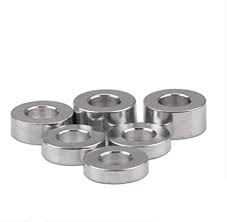No thread: (145, 89, 198, 112), (79, 92, 128, 113), (114, 124, 165, 144), (95, 147, 137, 169), (23, 103, 63, 123), (54, 129, 92, 147)
